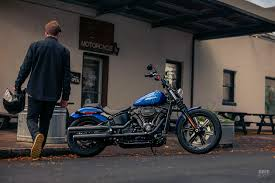motorcycle: (66, 62, 221, 157)
